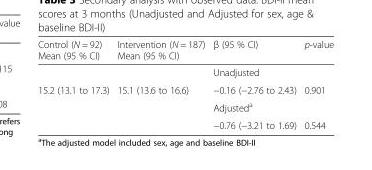table: (37, 37, 333, 130)
table column: (112, 37, 208, 130), (208, 37, 299, 130), (37, 37, 112, 130), (299, 37, 333, 130)
table column header: (37, 37, 333, 63)
table row: (37, 37, 333, 63), (37, 97, 333, 115), (37, 63, 333, 80), (37, 80, 333, 97), (37, 115, 333, 130)
table spanning cell: (37, 80, 112, 130), (208, 97, 333, 115), (208, 63, 333, 80)
